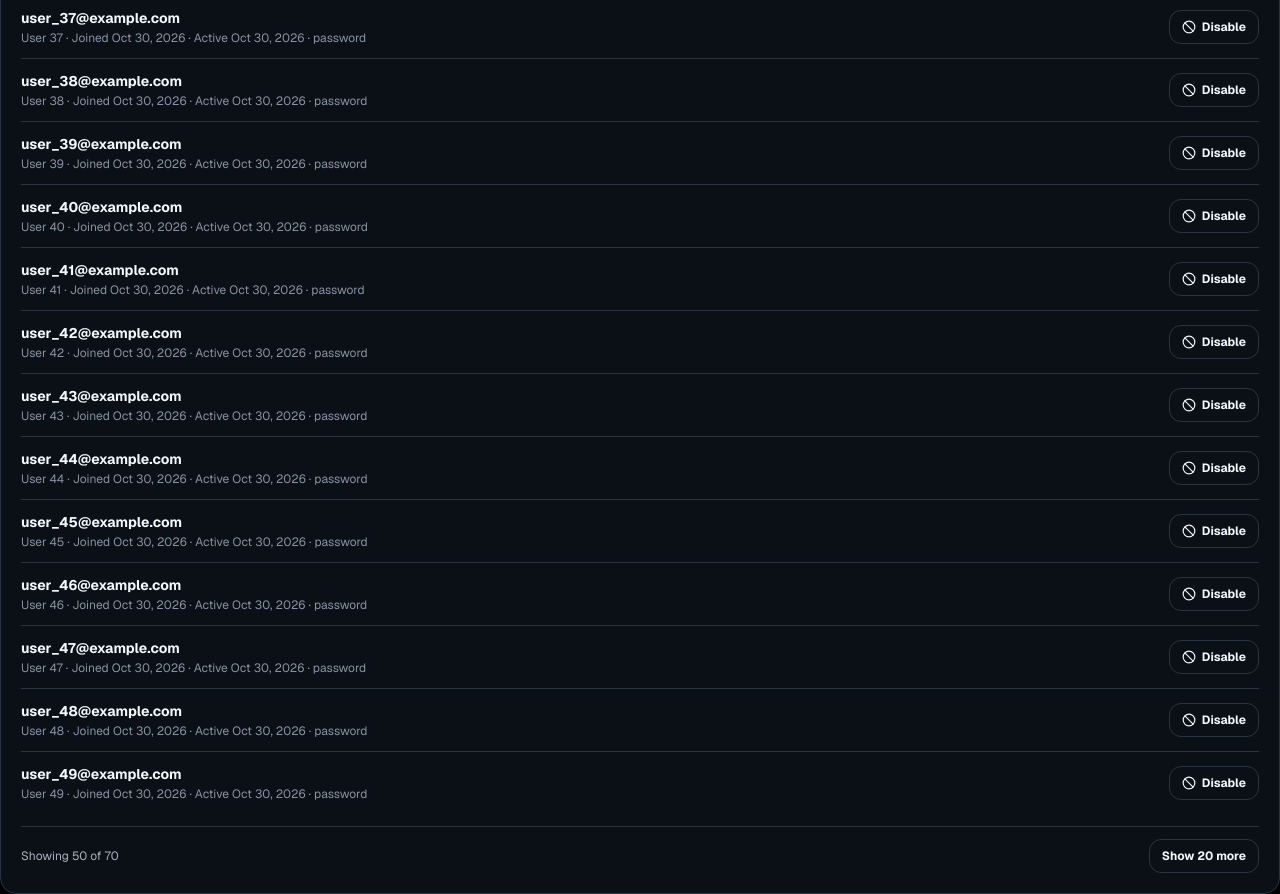
Test: AdminUsers Component Suite › handles pagination when user list exceeds PAGE_SIZE
(page scrolled)
Check: the text "Showing 50 of 70" is shown, box [21,848,119,864]
Click the button "Show 20 more" at {"x": 1204, "y": 856}, box [1149,839,1259,873]
(page scrolled)
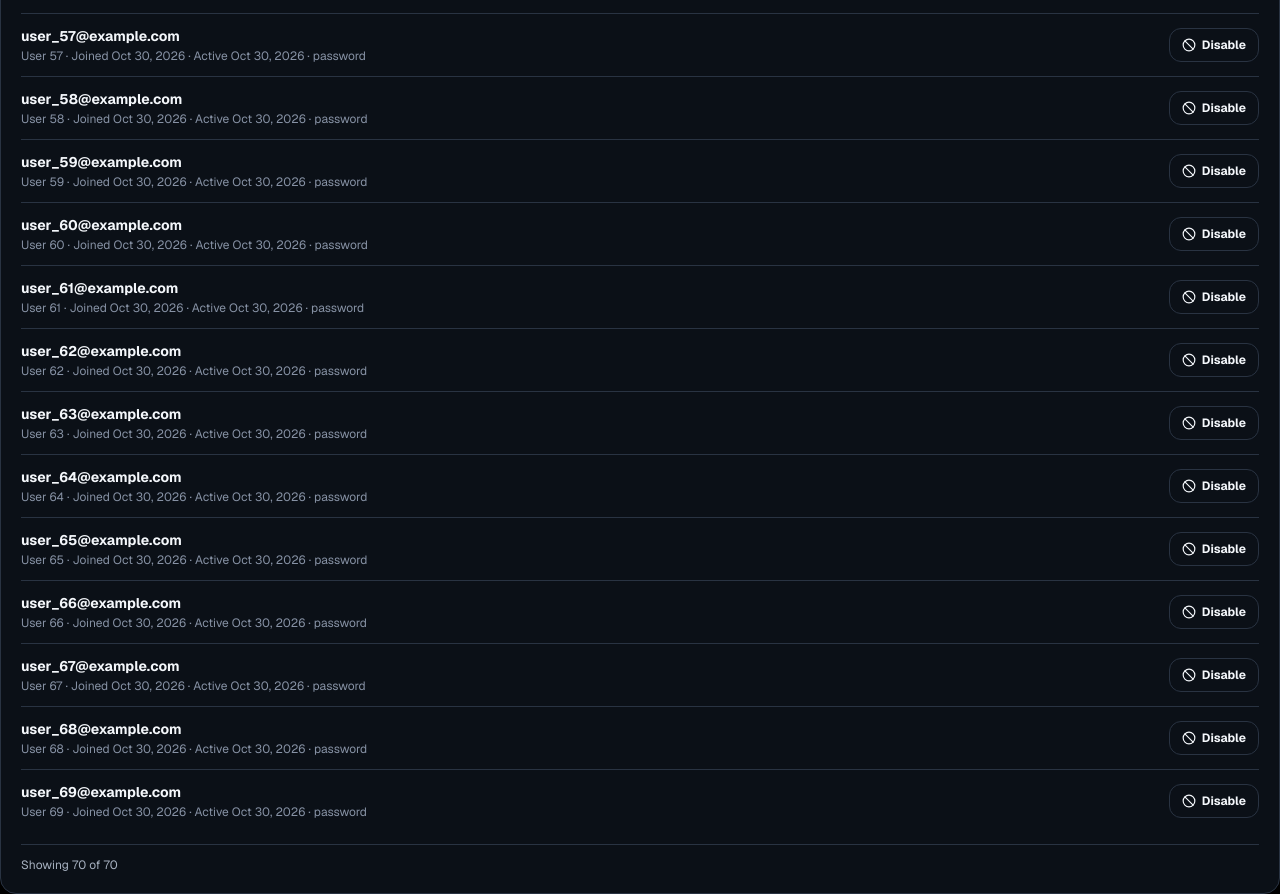
Check: the text "Showing 70 of 70" is shown, box [21,857,118,873]
